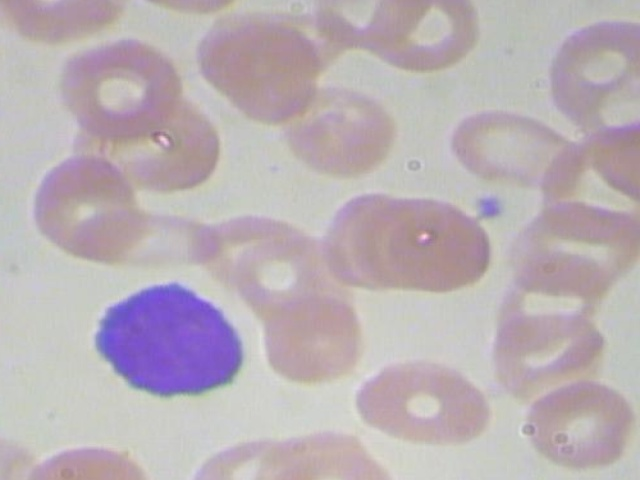Platelets: (466, 189, 510, 225)
RBC: (185, 10, 332, 135), (34, 31, 186, 145), (349, 354, 500, 452), (265, 82, 415, 180), (27, 148, 148, 262), (248, 282, 376, 389), (375, 189, 502, 296), (503, 373, 640, 468), (484, 303, 614, 398)
WBC: (79, 266, 250, 405)
